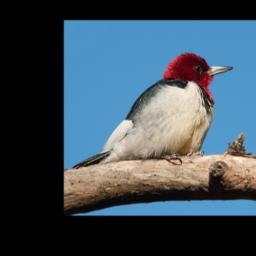Woodpecker: (71, 53, 233, 168)
